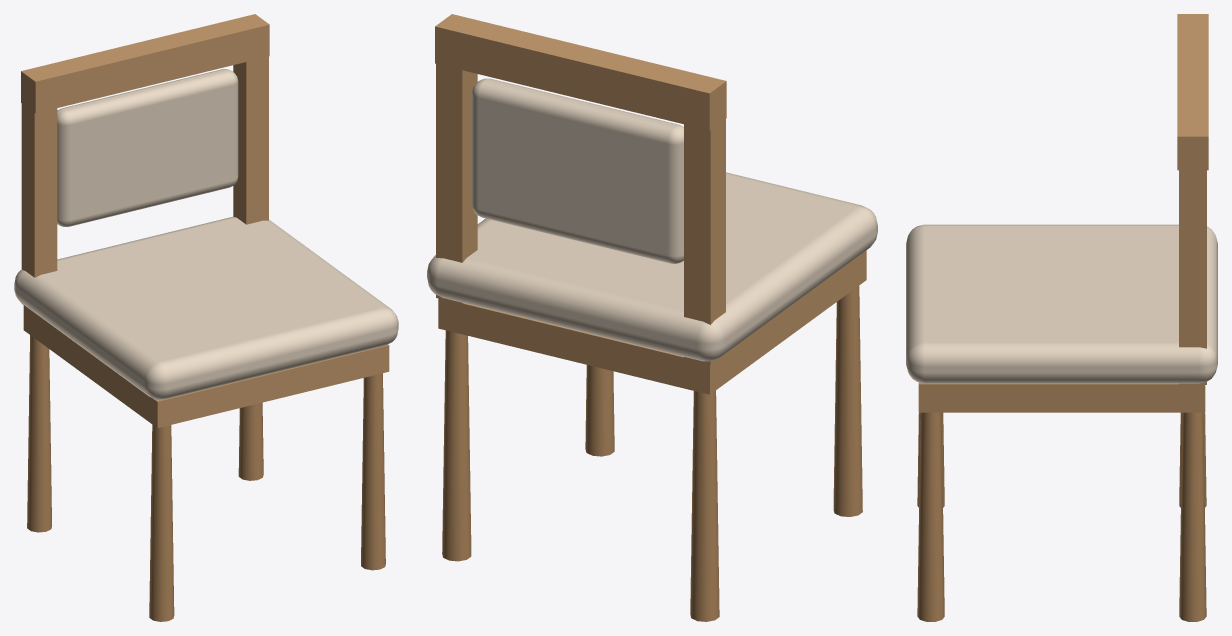
Rendered from chair-lite.glb.
3 renders of one model, left to right at view 1: azimuth 30°, elevation 25°; view 2: azimuth 150°, elevation 25°; view 3: azimuth 270°, elevation 25°, orthographic. The views are drawn at different scales.
Visible parts, largest first — view 1: material-2-upholstery, material-1-frame, material-0-leg; view 2: material-2-upholstery, material-1-frame, material-0-leg; view 3: material-2-upholstery, material-1-frame, material-0-leg.
Boxes of the visible parts, left/top/right/bottom form: material-2-upholstery: left=14, top=69, right=398, bottom=399; material-1-frame: left=21, top=14, right=389, bottom=428; material-0-leg: left=27, top=335, right=385, bottom=621; material-2-upholstery: left=427, top=78, right=877, bottom=361; material-1-frame: left=435, top=14, right=866, bottom=394; material-0-leg: left=442, top=286, right=862, bottom=621; material-2-upholstery: left=906, top=224, right=1217, bottom=383; material-1-frame: left=918, top=14, right=1208, bottom=412; material-0-leg: left=917, top=412, right=1206, bottom=621.
Size of the model in its own units: 0.5 by 0.86 by 0.5.
